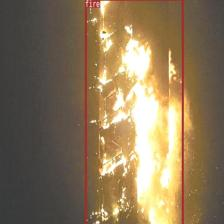fire: (85, 0, 183, 224)
